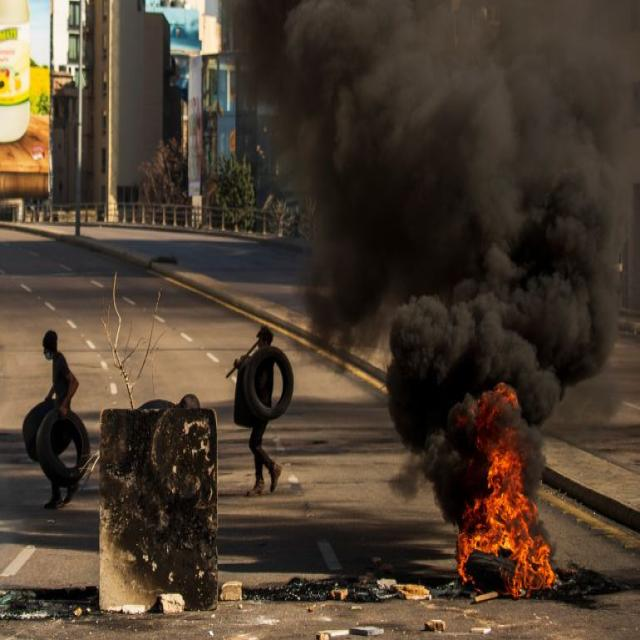fire: (457, 493, 555, 598), (475, 381, 525, 493)
